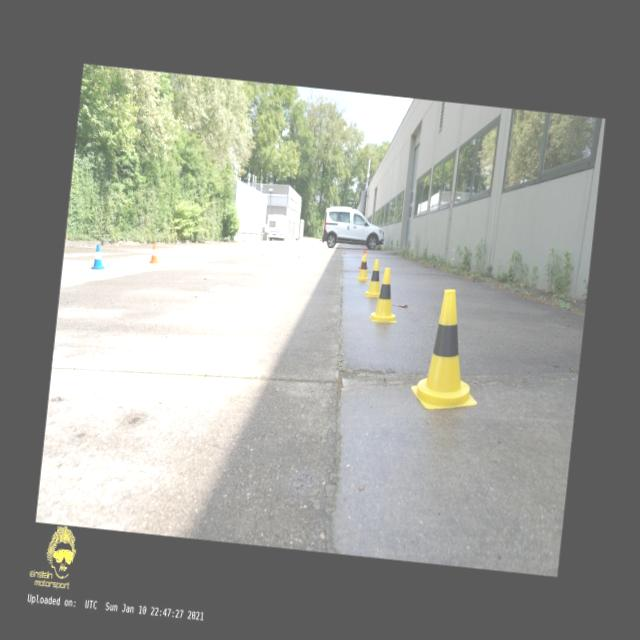blue_cone: (91, 244, 106, 270)
orange_cone: (148, 242, 160, 264), (357, 248, 369, 269)
yellow_cone: (408, 286, 488, 414), (368, 265, 402, 324), (363, 258, 382, 298), (356, 252, 372, 281)
